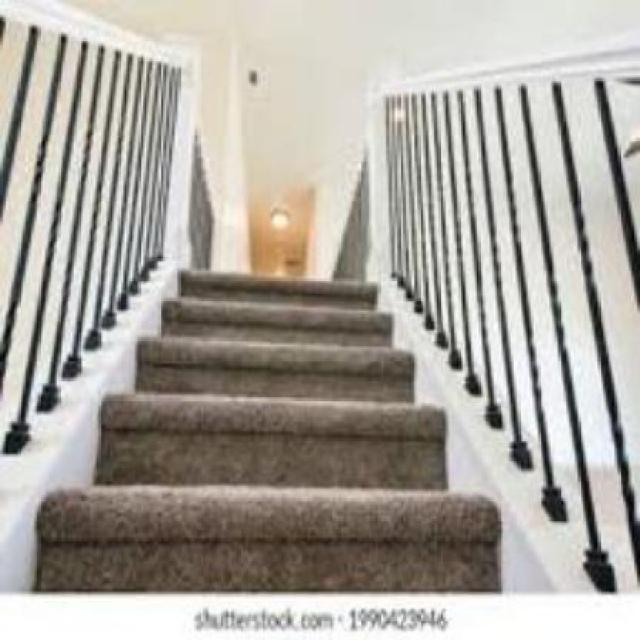stair: (52, 268, 486, 592)
